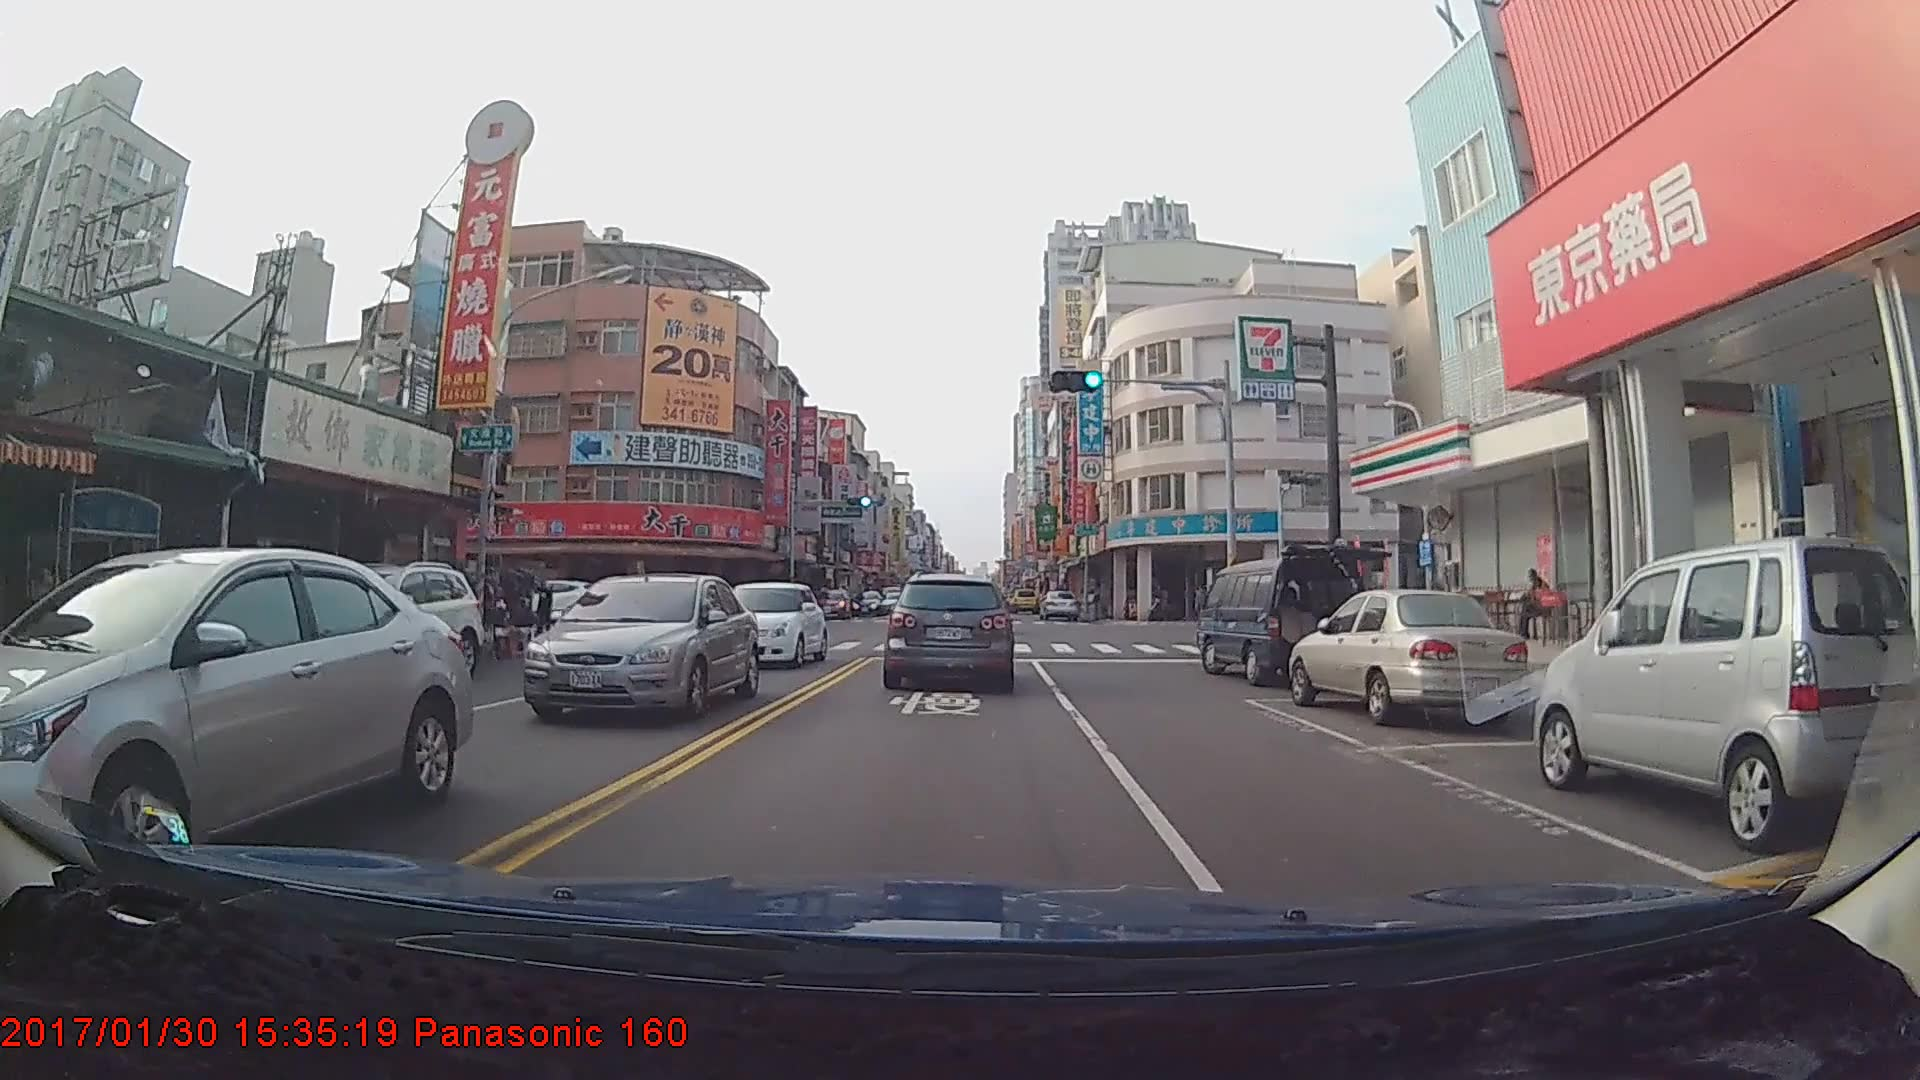vehicle: (1, 545, 472, 894), (1530, 534, 1919, 855), (526, 571, 756, 723), (1288, 585, 1522, 723), (1197, 560, 1364, 680), (884, 570, 1015, 694), (704, 582, 827, 670), (1038, 588, 1080, 622), (810, 585, 848, 620), (849, 592, 884, 616), (1009, 588, 1036, 612)
